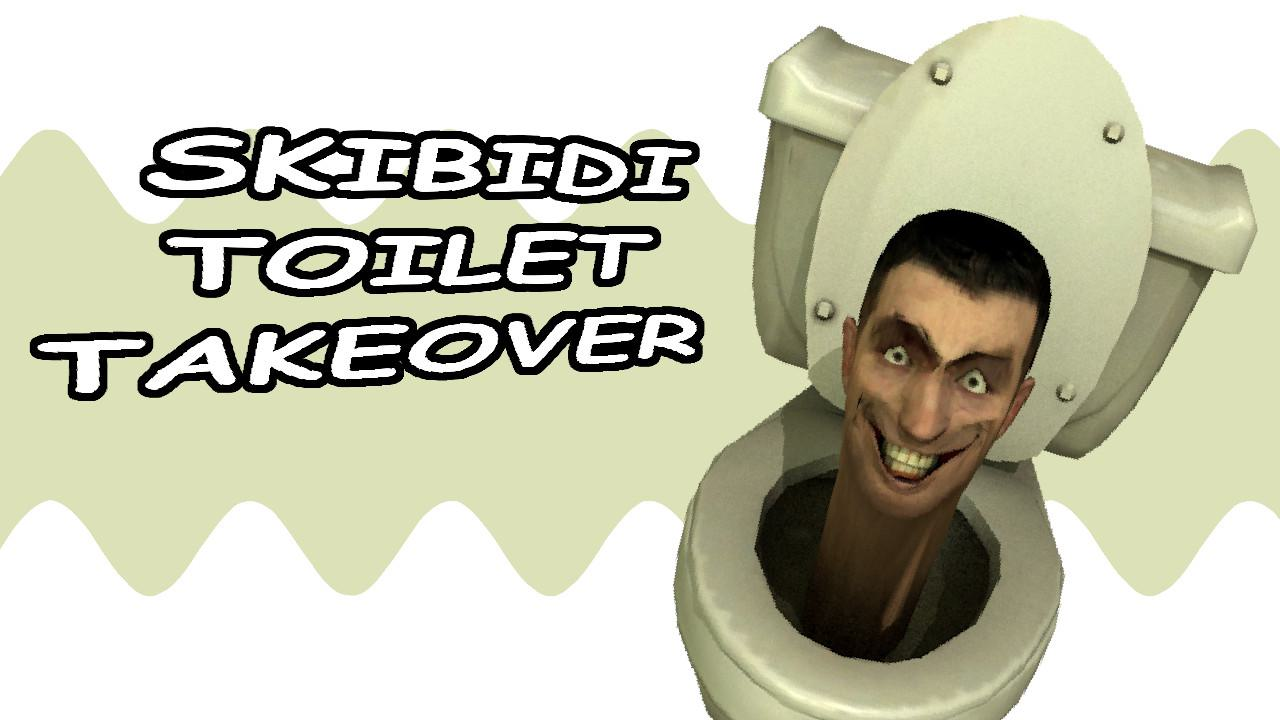skibidi-toilet: (844, 211, 1052, 524)
